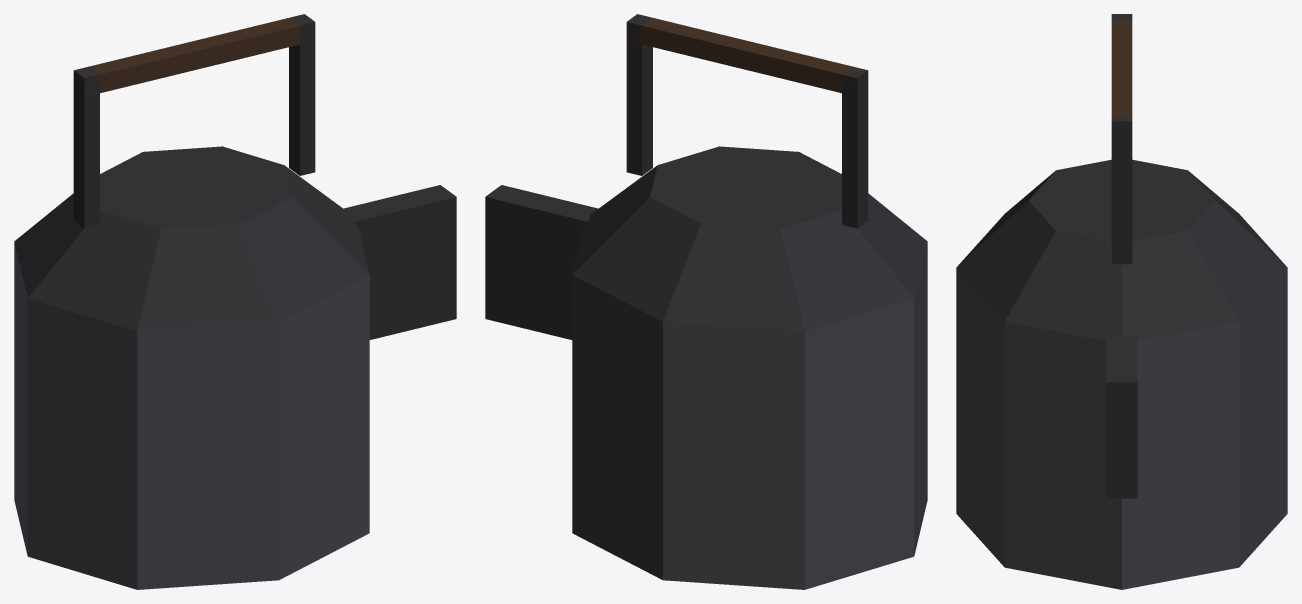
The model's file is SM_Wood_Kettle.glb.
3 views of the same model, side by side, from view 1: azimuth 30°, elevation 25°; view 2: azimuth 150°, elevation 25°; view 3: azimuth 270°, elevation 25° (orthographic). The views are drawn at different scales.
Visible parts, largest first — view 1: SM_Wood_Kettle; view 2: SM_Wood_Kettle; view 3: SM_Wood_Kettle.
Part boxes in pixels (left/top/right/bottom): SM_Wood_Kettle: left=14, top=14, right=456, bottom=589; SM_Wood_Kettle: left=485, top=14, right=927, bottom=589; SM_Wood_Kettle: left=956, top=14, right=1287, bottom=589.
Bounding box in the file's own units: 0.24 × 0.256 × 0.172.
Materials: 1 (1 with a texture image).
